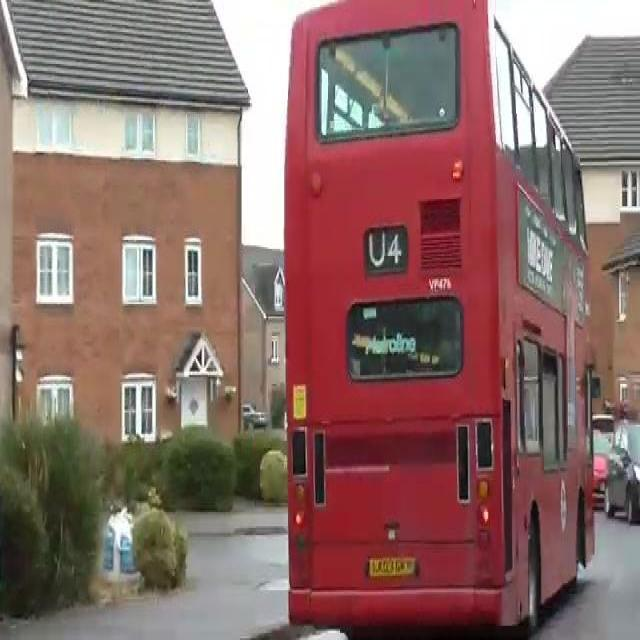bus: (256, 12, 640, 634)
